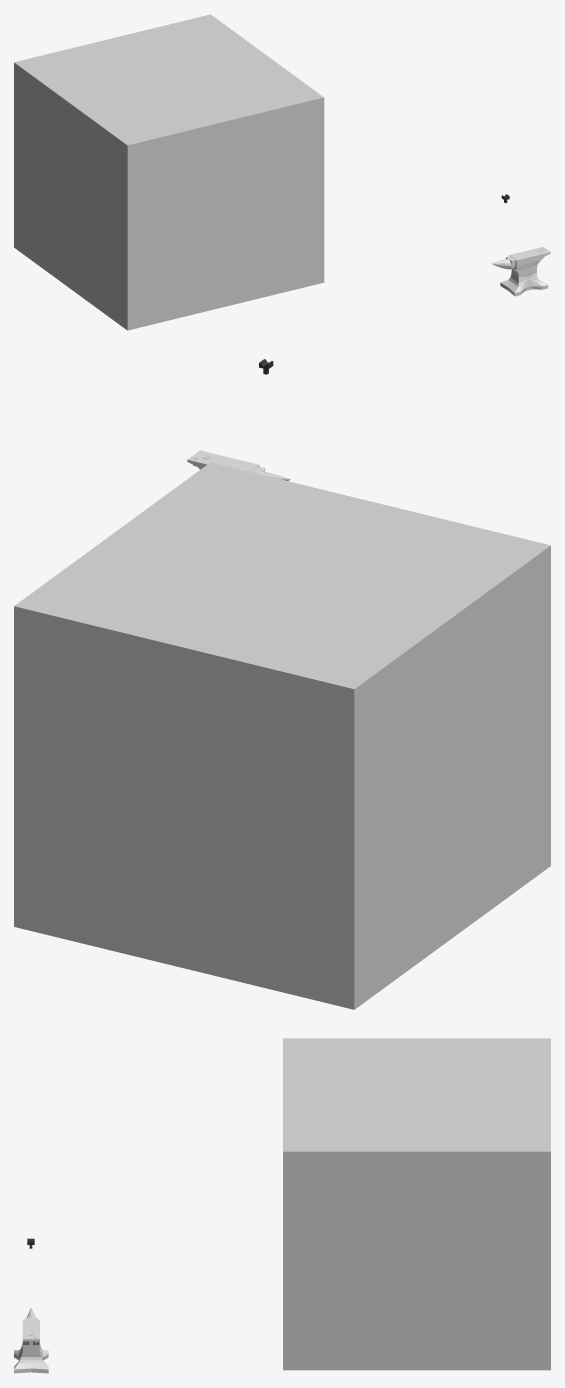
Rendered from roundingtool.dae.
The picture shows the model from 3 angles, top to bottom: view 1: azimuth 30°, elevation 25°; view 2: azimuth 150°, elevation 25°; view 3: azimuth 270°, elevation 25°; orthographic projection. The views are drawn at different scales.
Visible parts, largest first — view 1: Cube_004, Cube_002; view 2: Cube_004, Cube_002; view 3: Cube_004, Cube_002.
Boxes of the visible parts, bbox=[...] form: Cube_004: bbox=[14, 14, 324, 330]; Cube_002: bbox=[491, 247, 550, 296]; Cube_004: bbox=[14, 462, 550, 1009]; Cube_002: bbox=[187, 450, 290, 480]; Cube_004: bbox=[283, 1038, 550, 1370]; Cube_002: bbox=[14, 1307, 48, 1373].
Size of the model in its own units: 3.18 by 4.01 by 1.8.
1 material, 1 textured.
